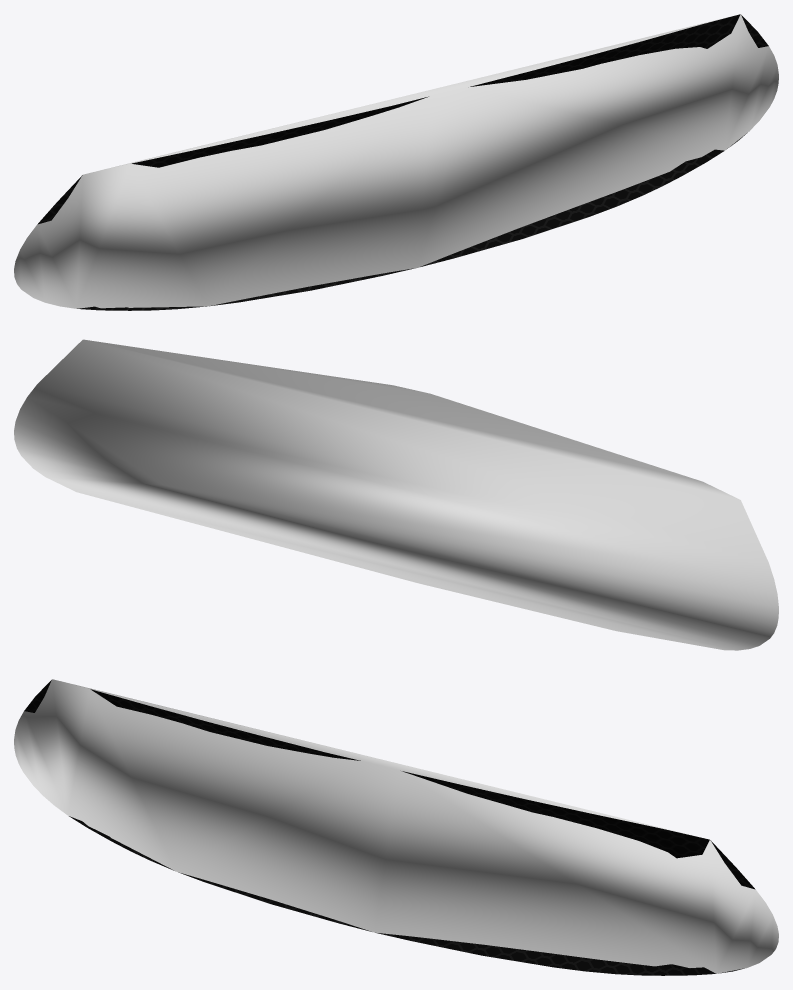
3 renders of one model, top to bottom at view 1: azimuth 30°, elevation 25°; view 2: azimuth 150°, elevation 25°; view 3: azimuth 330°, elevation 25°, orthographic.
Visible parts, largest first — view 1: grille_eclipse_head_1_01_col, grille_eclipse_head_1_01; view 2: grille_eclipse_head_1_01_col; view 3: grille_eclipse_head_1_01_col, grille_eclipse_head_1_01.
Boxes of the visible parts, x1,y1,x2,y2 form: grille_eclipse_head_1_01_col: (14,14,778,308); grille_eclipse_head_1_01: (37,14,768,310); grille_eclipse_head_1_01_col: (14,339,778,650); grille_eclipse_head_1_01_col: (14,679,778,973); grille_eclipse_head_1_01: (24,680,755,975).
Size of the model in its own units: 0.9718 by 0.2193 by 0.0832.
1 material, 1 textured.
